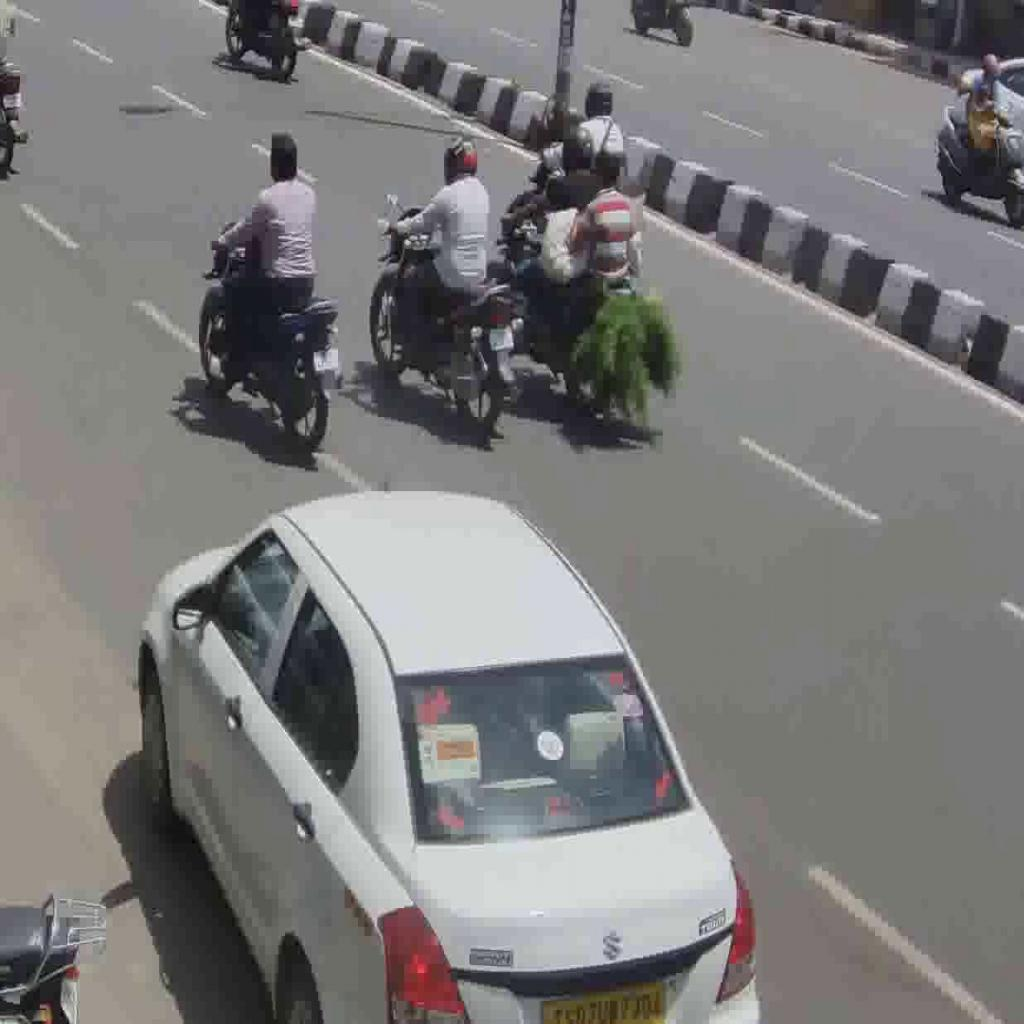bike: (368, 204, 525, 438), (490, 188, 639, 421), (198, 220, 345, 453)
helmet: (560, 122, 597, 176), (441, 134, 480, 185)
lisc: (489, 324, 514, 352), (313, 349, 338, 371)
no_helmet: (268, 128, 299, 185), (594, 148, 620, 189)
noise: (934, 52, 1024, 230)
rider: (212, 128, 316, 381), (382, 135, 490, 367), (499, 122, 598, 320), (554, 148, 636, 342)
